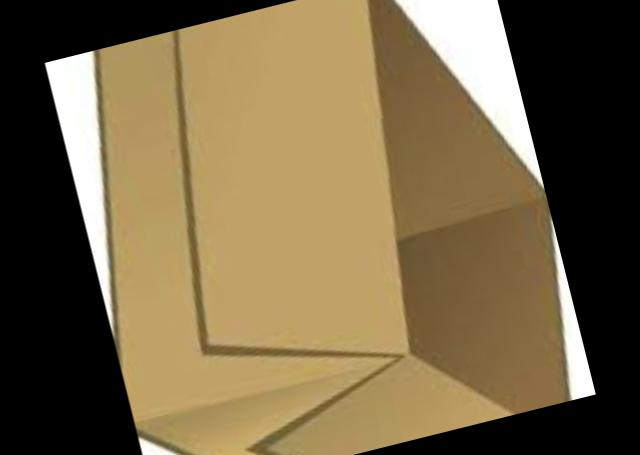cardboard paper: (99, 0, 566, 455)
